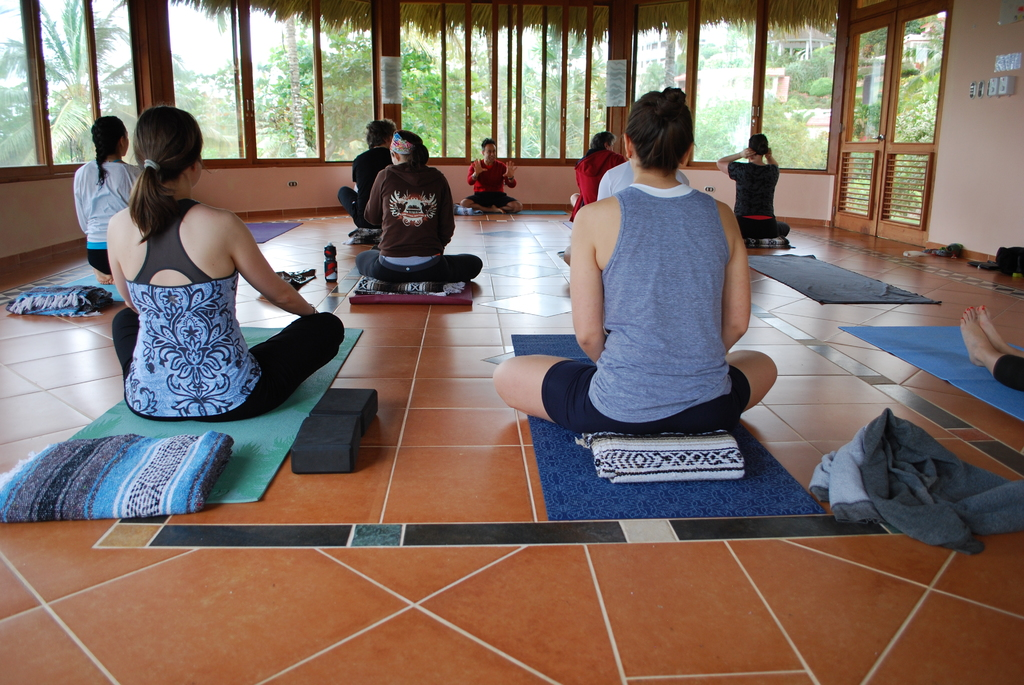person: (570, 129, 628, 221)
